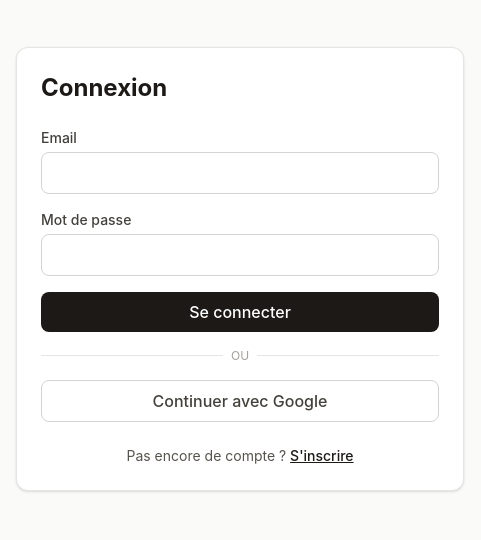
Scenario: LoginPage › shows an error when credentials are rejected
This screenshot has width=481, height=540.
Type "a@b.fr" into the field labelled "Email" at (240, 172), box [41,152,439,194]
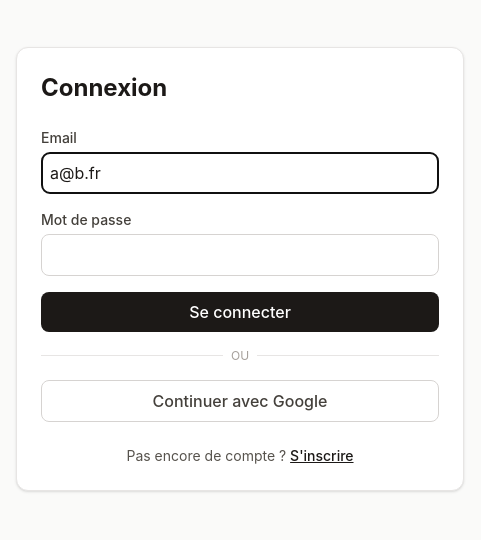
Type "secret" into the password field labelled "Mot de passe" at (240, 254), box [41,234,439,276]
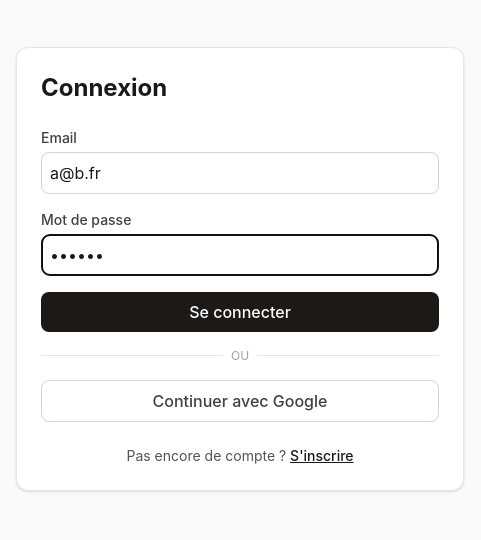
Click the button "Se connecter" at (240, 312), box [41,292,439,332]
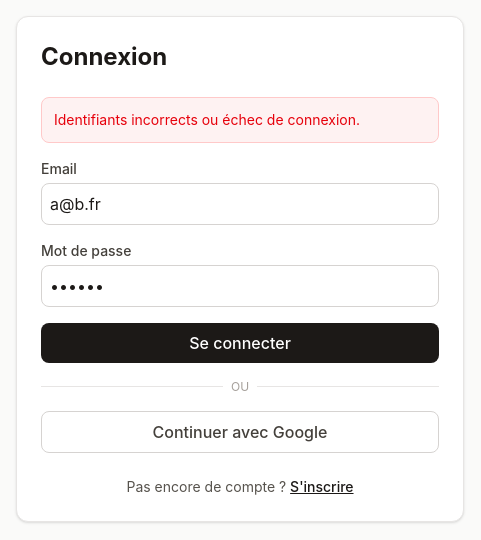
expect the text "Identifiants incorrects ou échec de connexion." is shown: met, box [41,96,439,142]
